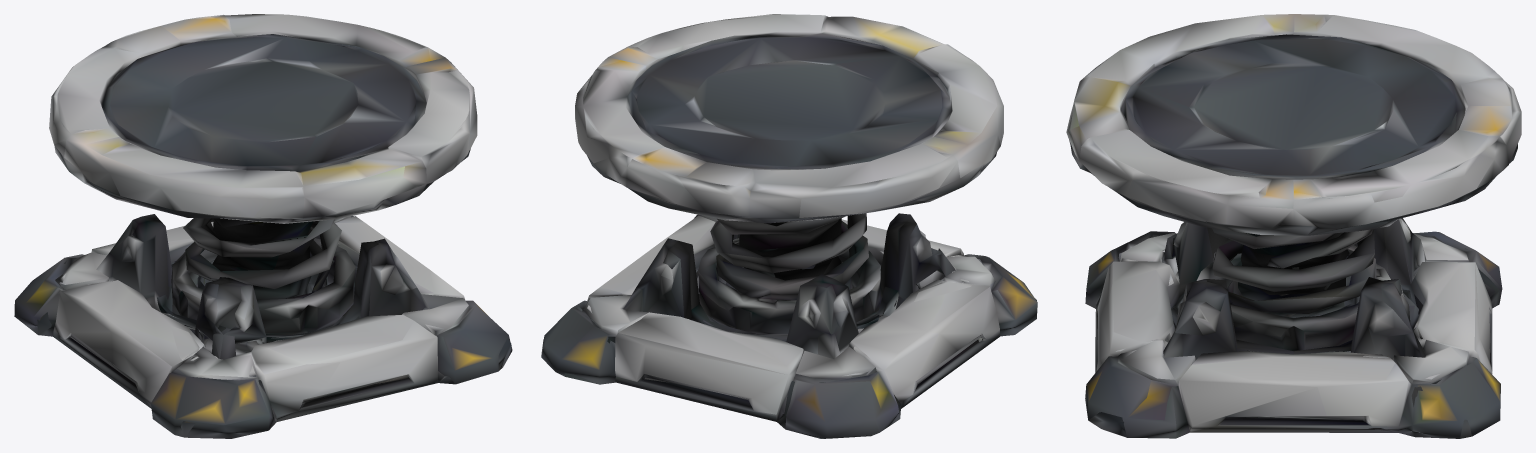
File: model-38-turntable.glb
3 views of the same model, side by side, from view 1: azimuth 30°, elevation 25°; view 2: azimuth 150°, elevation 25°; view 3: azimuth 270°, elevation 25° (orthographic). The views are drawn at different scales.
Visible parts, largest first — view 1: Frame, Moving; view 2: Frame, Moving; view 3: Frame, Moving.
Part boxes in pixels (x1=…): Frame: x1=14, y1=214, x2=512, y2=438; Moving: x1=49, y1=14, x2=477, y2=223; Frame: x1=541, y1=213, x2=1037, y2=438; Moving: x1=575, y1=14, x2=1003, y2=223; Frame: x1=1085, y1=218, x2=1502, y2=438; Moving: x1=1066, y1=14, x2=1521, y2=235.
Size of the model in its own units: 0.9069 by 0.5452 by 0.9082.
